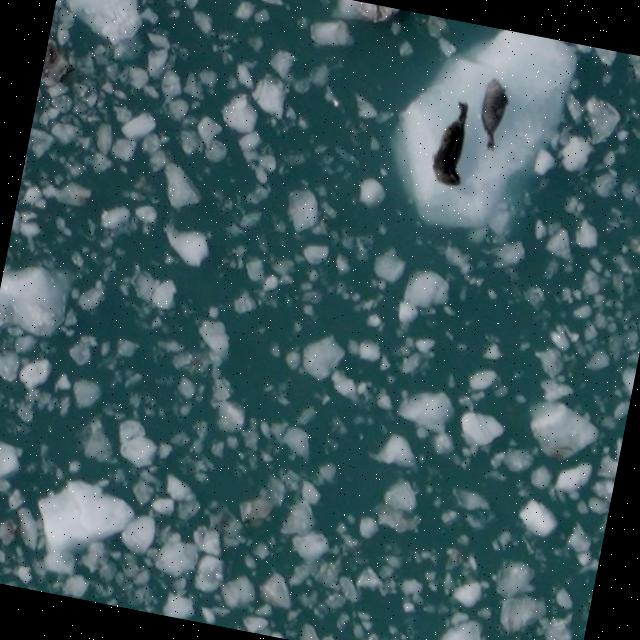seal: (430, 98, 473, 187), (473, 76, 513, 151)
